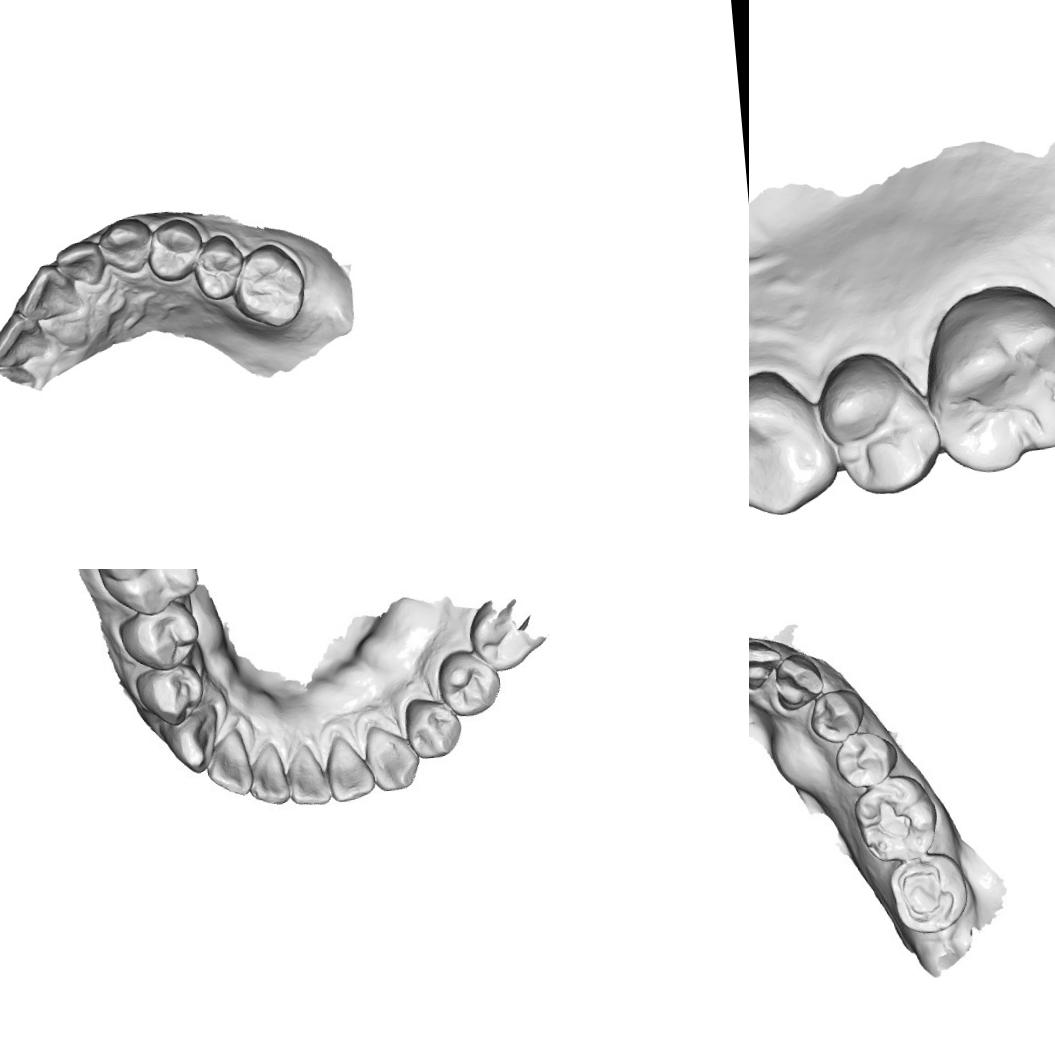canine: (164, 704, 224, 774), (361, 720, 419, 791), (94, 214, 155, 276), (771, 650, 826, 712)
incisor: (10, 260, 86, 324), (322, 731, 376, 802), (0, 307, 51, 370), (204, 730, 253, 794), (285, 742, 332, 808), (248, 740, 294, 806), (52, 237, 106, 289), (749, 636, 784, 691)
molar: (915, 275, 1055, 481), (850, 770, 941, 864), (228, 238, 310, 332), (887, 849, 970, 936), (468, 592, 545, 670), (94, 569, 203, 619)
premolar: (811, 344, 945, 503), (749, 361, 841, 522), (119, 599, 199, 670), (136, 655, 207, 732), (142, 214, 207, 285), (438, 647, 502, 718), (402, 690, 464, 763), (188, 230, 248, 302), (832, 728, 900, 790), (807, 687, 866, 745)
